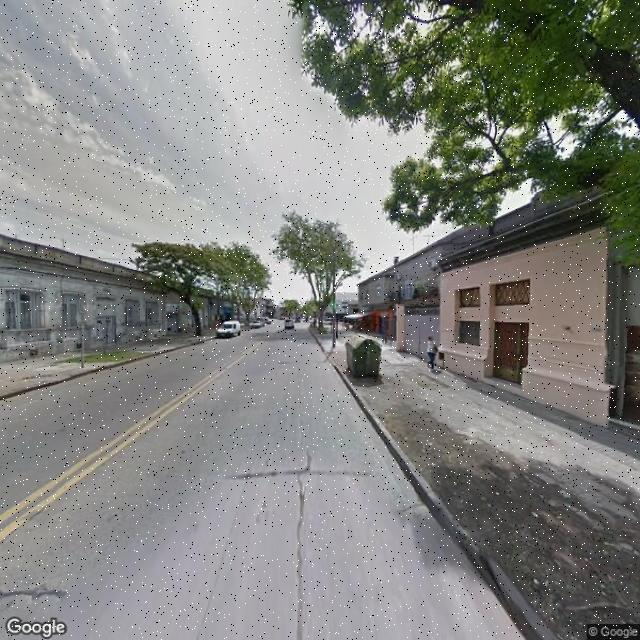garbage container: (343, 333, 389, 391)
